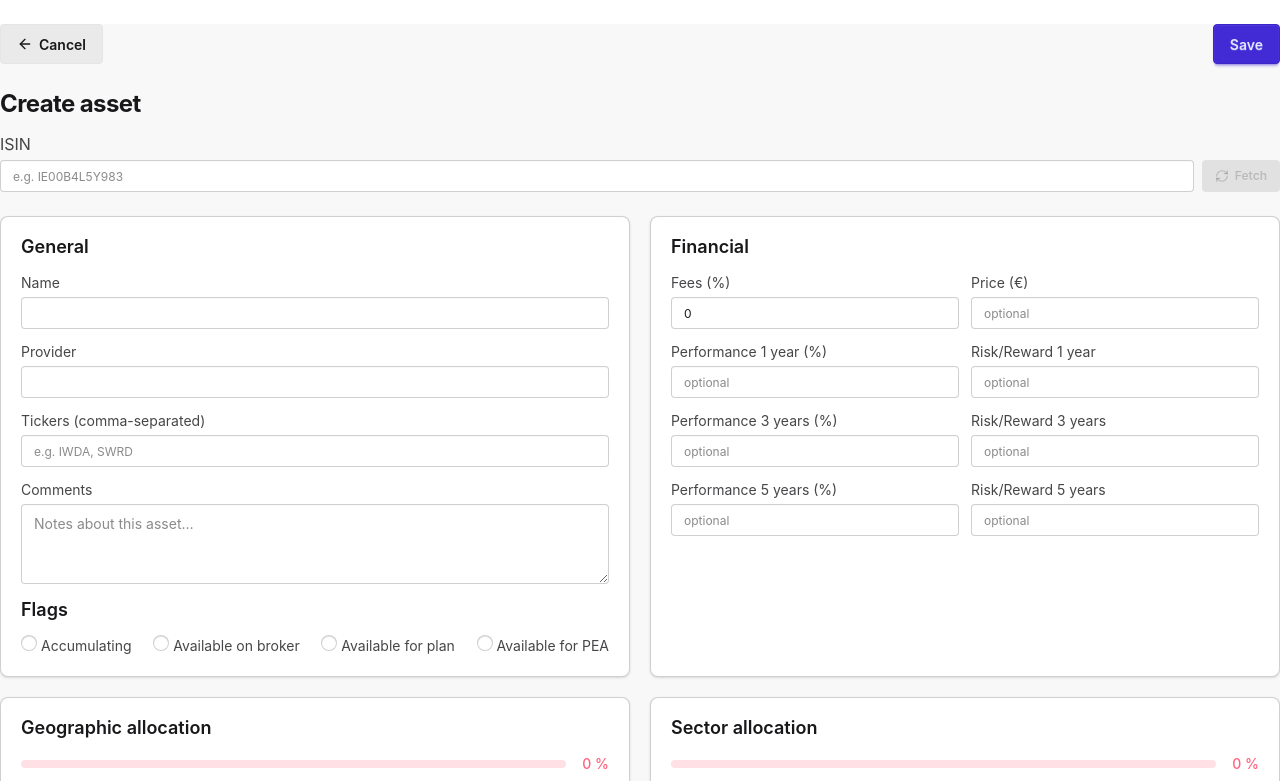
Test: AssetCreatePage › prefills geo and sector allocations after a successful fetch with allocation data
In the field with test id "isin": (597, 176) [0,160,1194,192], type "IE00B5BMR087"
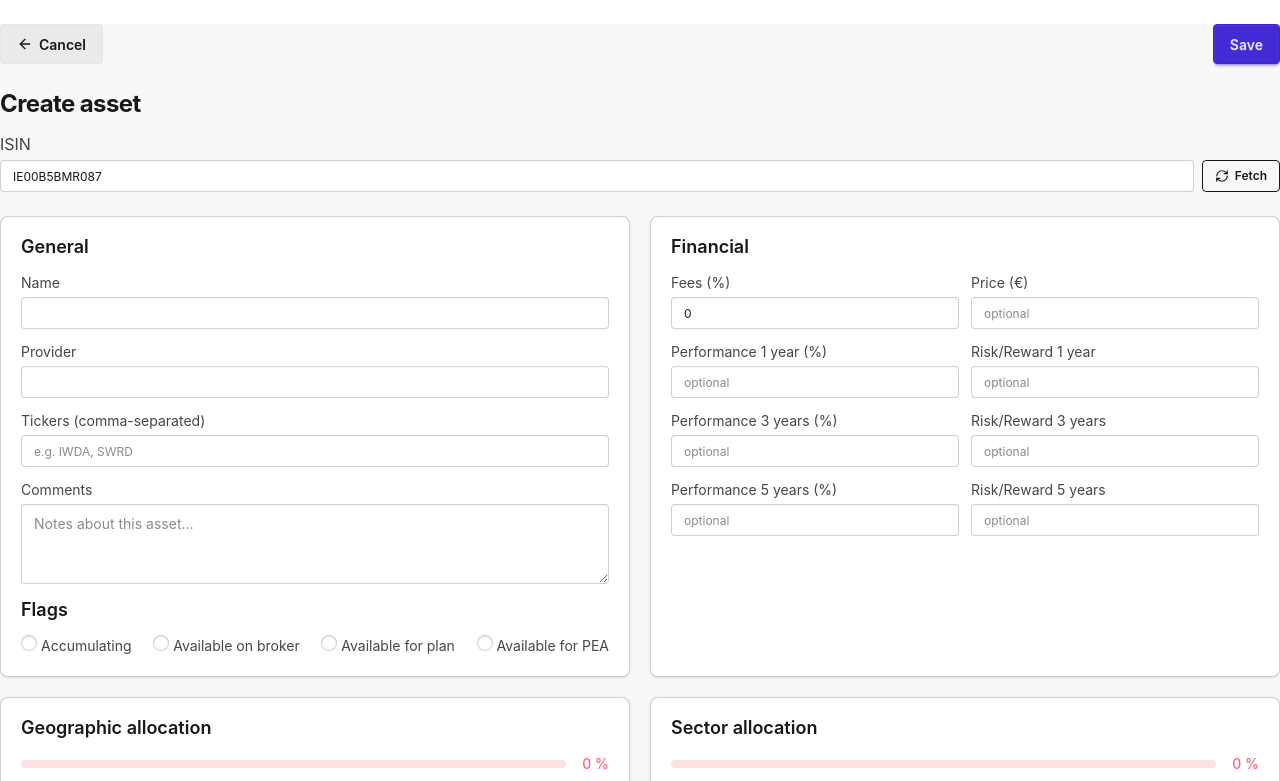
Click the button with test id "fetch-etf-button": (1241, 176) [1202,160,1279,192]
(page scrolled)
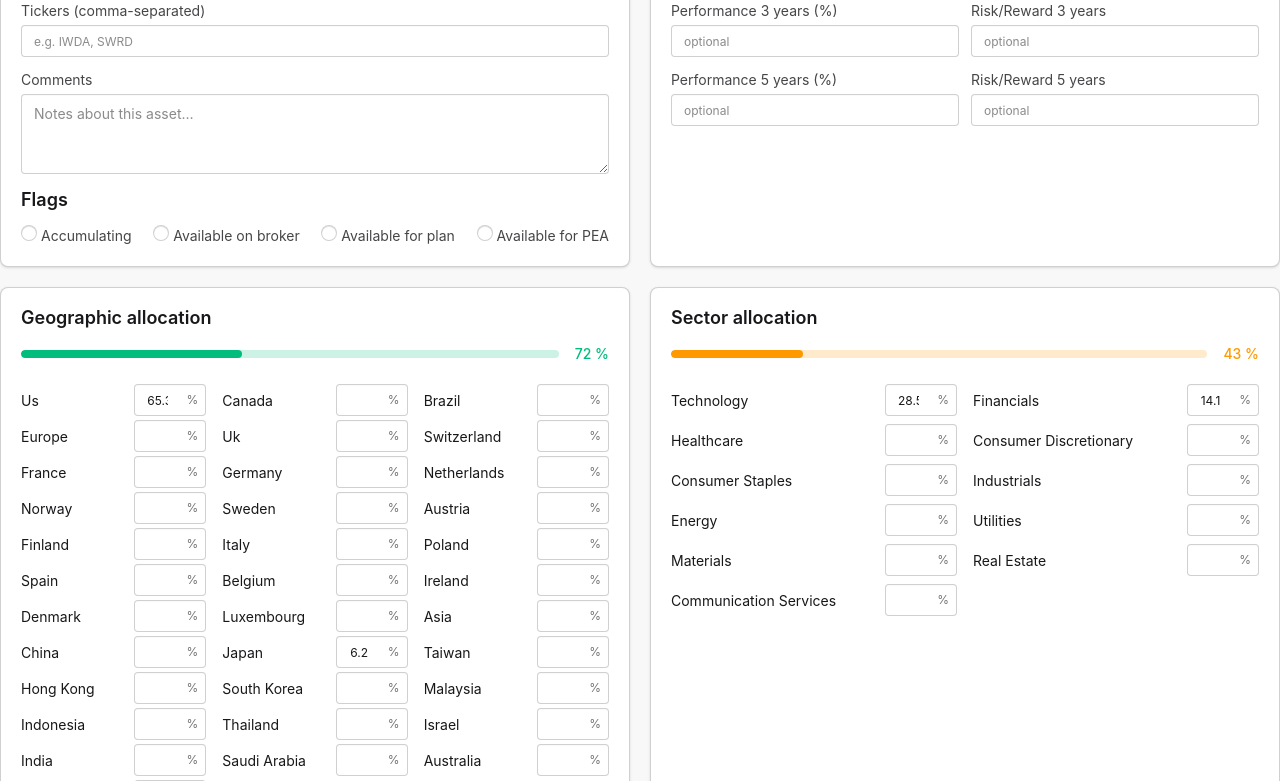
Now the number field with test id "geo-allocation-us" holds "65.3", box [134,384,206,416]
Now the number field with test id "geo-allocation-japan" holds "6.2", box [336,636,408,668]
Now the number field with test id "sector-allocation-technology" holds "28.5", box [885,384,957,416]
